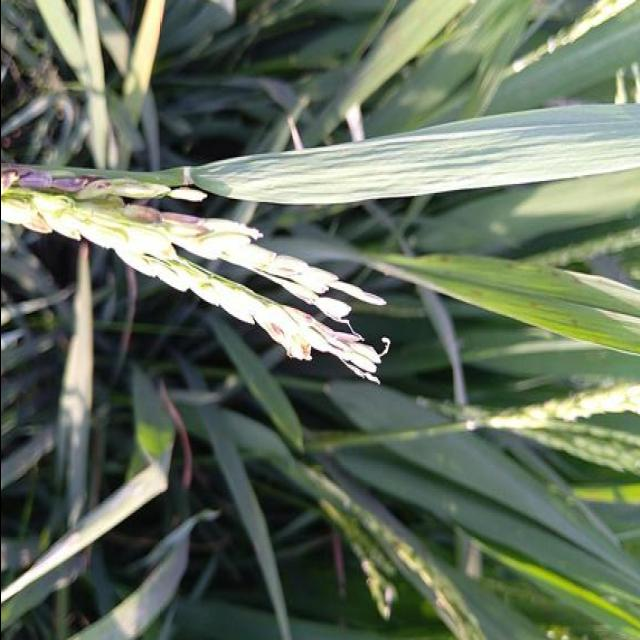Panicle Blight: (239, 305, 375, 381), (0, 166, 137, 197), (121, 202, 205, 239)
